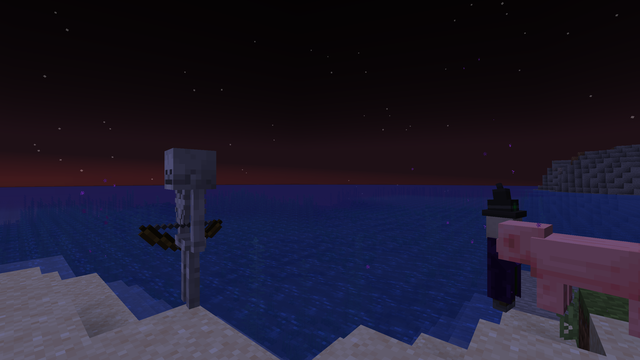cochons: (540, 229, 635, 337)
sorcieres: (484, 210, 522, 317)
squelettes: (156, 148, 222, 319)
